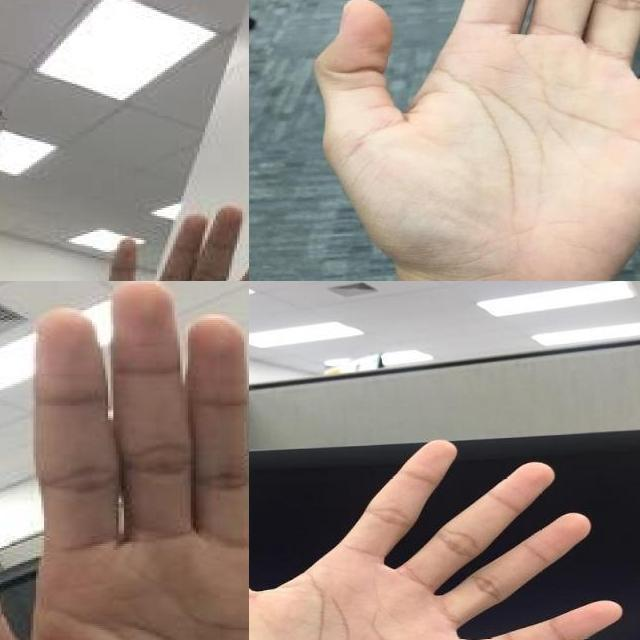no-gloves: (315, 0, 640, 281), (0, 281, 249, 640), (249, 436, 626, 640), (90, 202, 249, 281)
